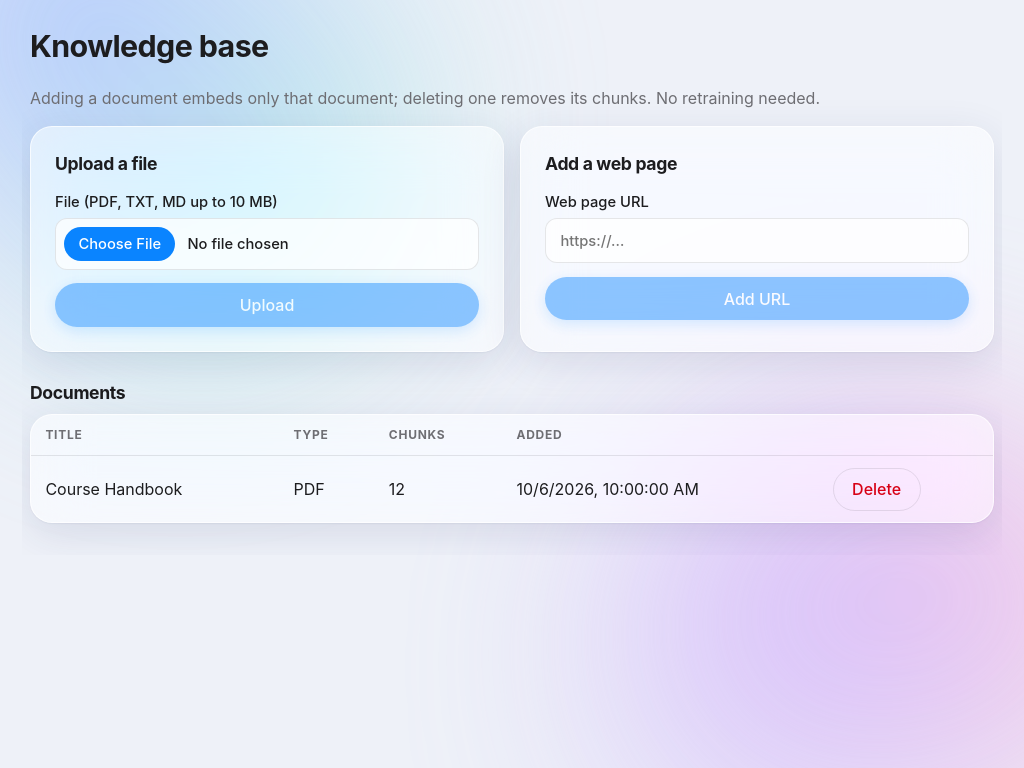
AdminPage › asks for confirmation before delete; cancel sends nothing
Expected: the table is shown, [30,414,994,523]
Click the button with aria-label "delete course handbook": click(877, 490) [833,468,920,511]
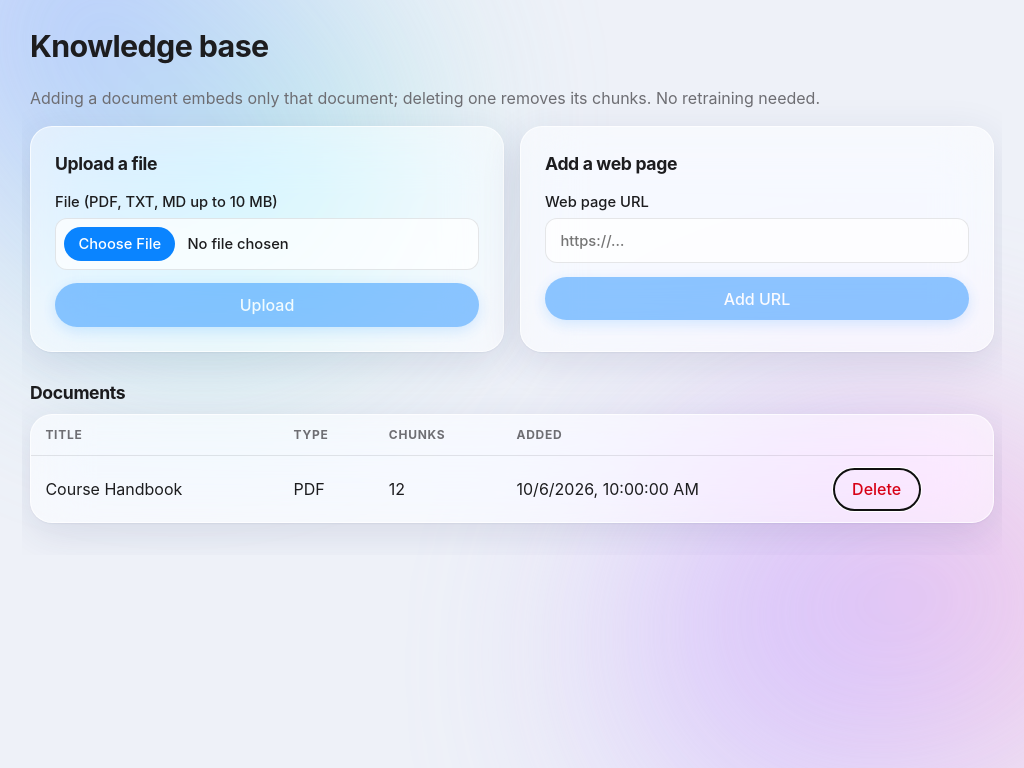
Click the button with aria-label "delete course handbook": click(877, 490) [833,468,920,511]
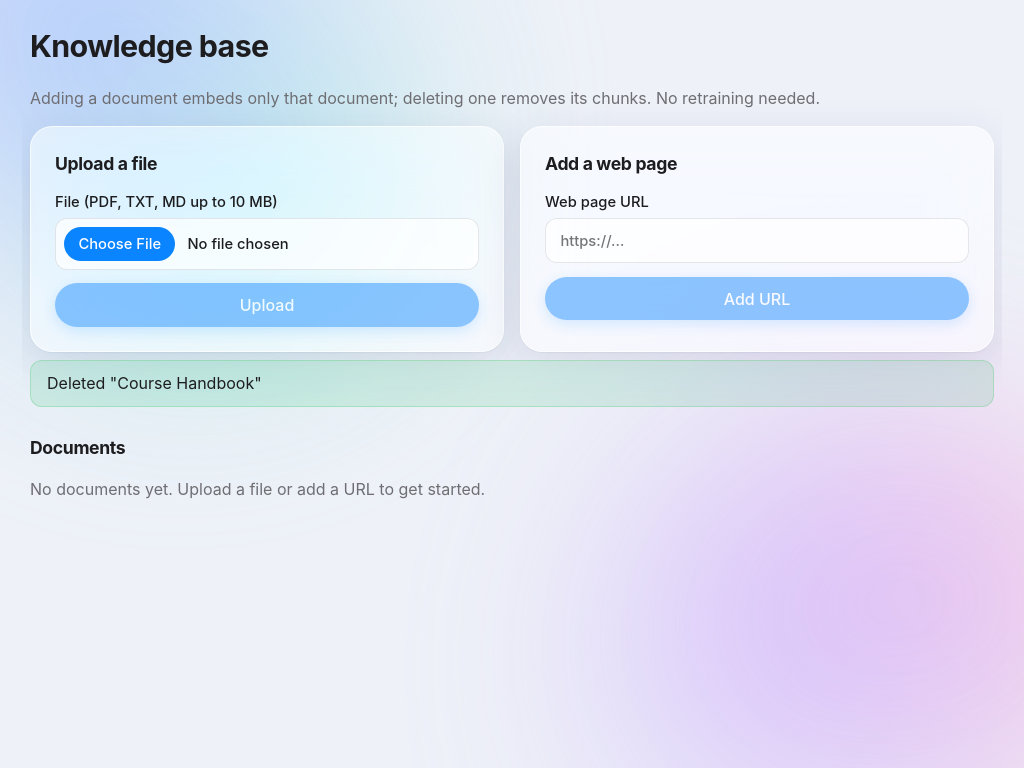
Expected: the text "No documents yet. Upload a file or add a URL to get started." is shown, [30,479,485,499]
